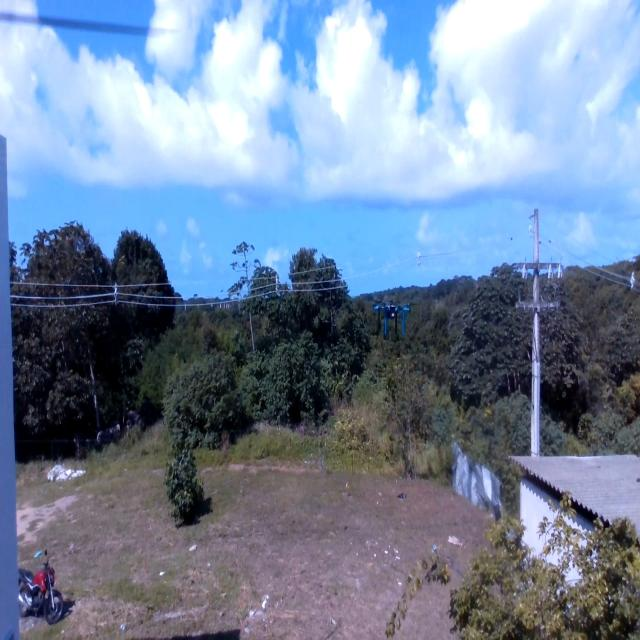-uav-: (362, 287, 426, 346)
